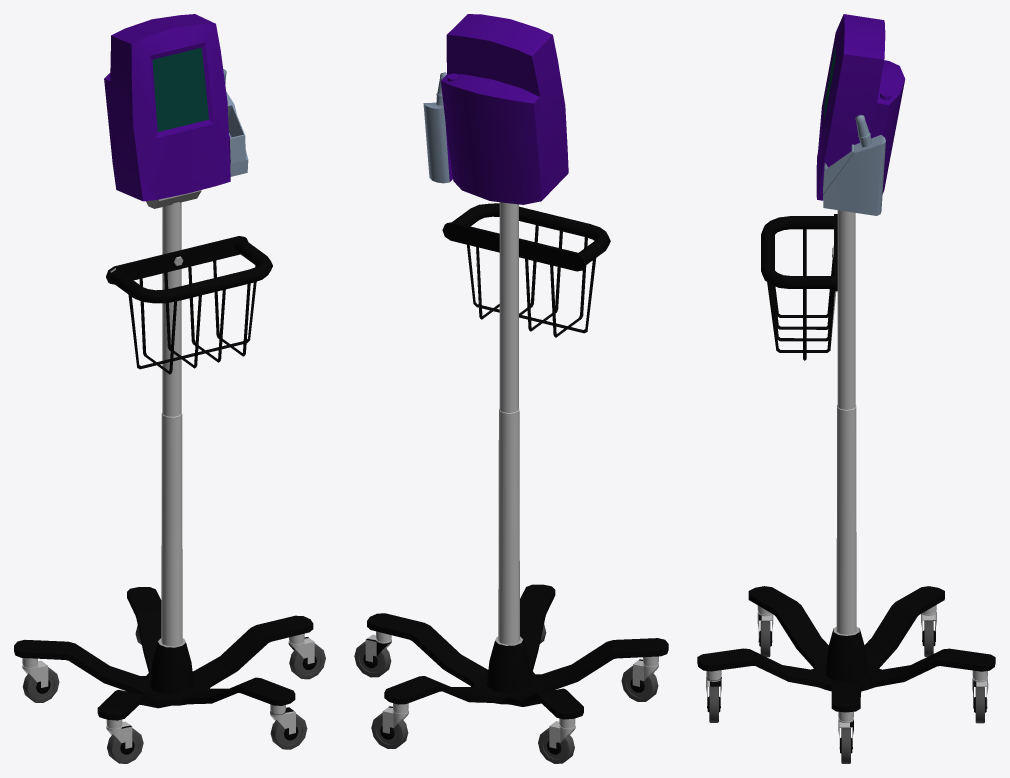
Rendered from monitor_signosvitales.fbx.
The picture shows the model from 3 angles, left to right: view 1: azimuth 30°, elevation 25°; view 2: azimuth 150°, elevation 25°; view 3: azimuth 270°, elevation 25°; orthographic projection. The views are drawn at different scales.
Visible parts, largest first — view 1: monitor_de_signos_vitales; view 2: monitor_de_signos_vitales; view 3: monitor_de_signos_vitales.
Boxes of the visible parts, x1,y1,x2,y2 form: monitor_de_signos_vitales: (14,14,325,763); monitor_de_signos_vitales: (354,14,668,763); monitor_de_signos_vitales: (697,14,995,763).
Size of the model in its own units: 1.07 by 2.62 by 1.06.
